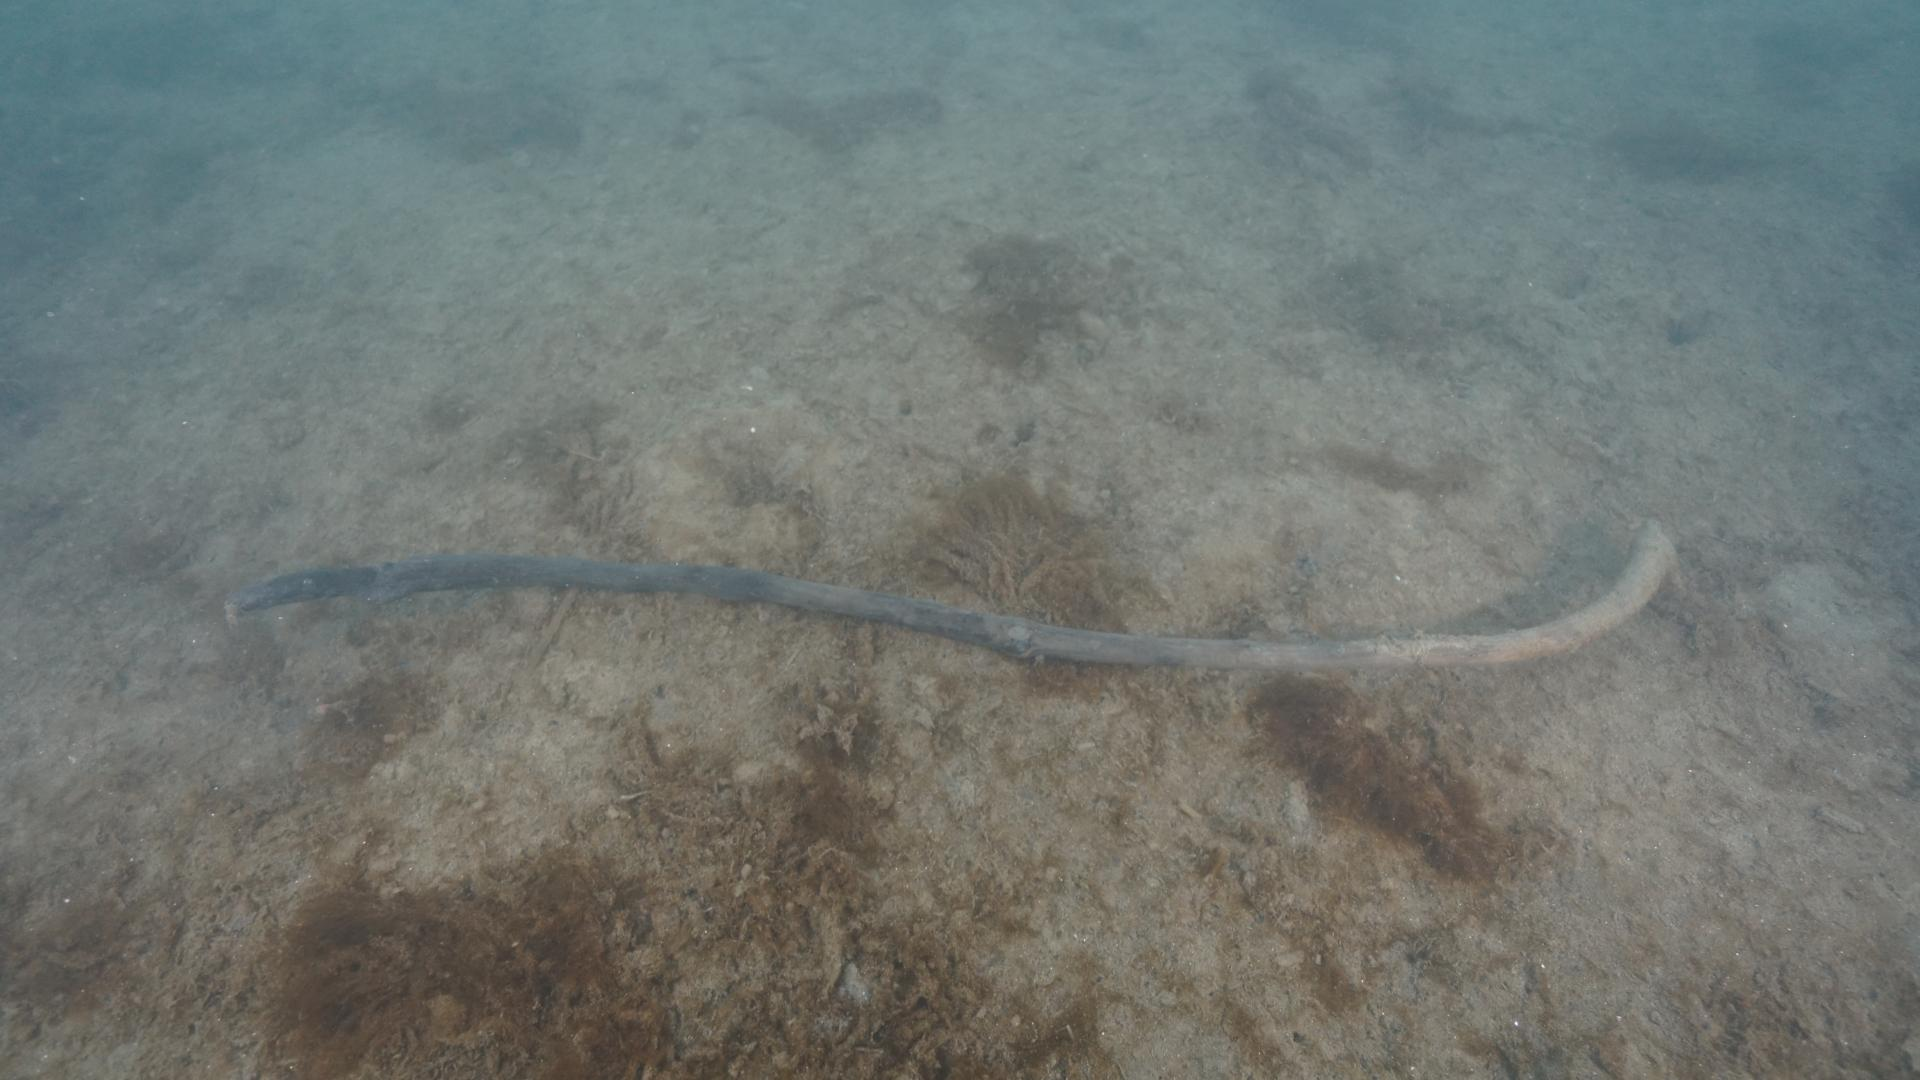wood: (229, 513, 1677, 670)
